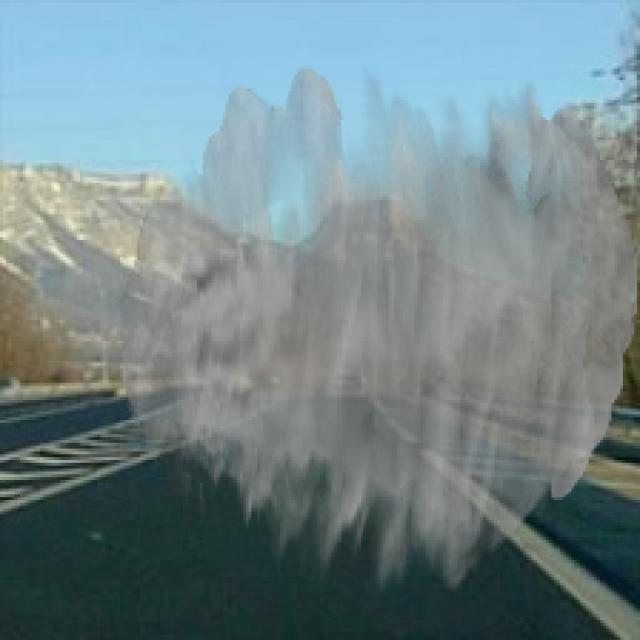smoke: (120, 66, 637, 597)
